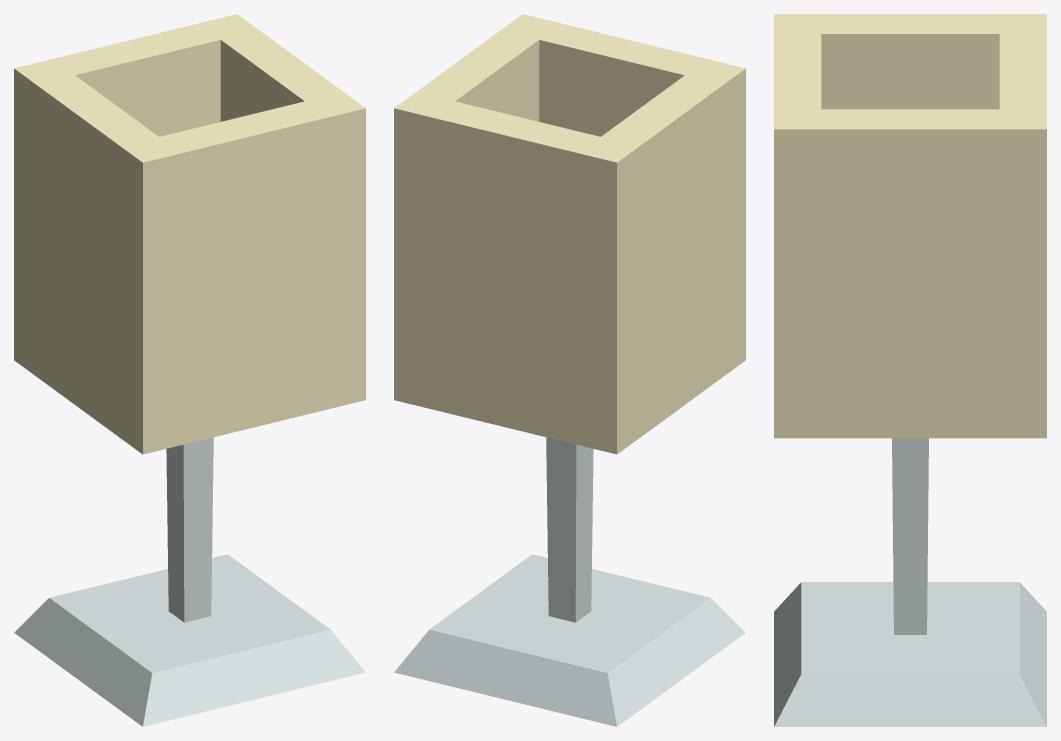
File: desk_lamp.fbx
3 renders of one model, left to right at view 1: azimuth 30°, elevation 25°; view 2: azimuth 150°, elevation 25°; view 3: azimuth 270°, elevation 25°, orthographic. The views are drawn at different scales.
Parts seen in each view (by area): view 1: desk_lamp; view 2: desk_lamp; view 3: desk_lamp.
Boxes of the visible parts, x1,y1,x2,y2 form: desk_lamp: [14, 14, 365, 726]; desk_lamp: [394, 14, 745, 726]; desk_lamp: [774, 14, 1046, 726].
Size of the model in its own units: 0.2069 by 0.5 by 0.2069.
